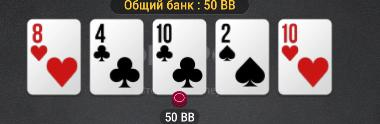10c: (154, 20, 206, 94)
10h: (279, 21, 331, 94)
2s: (217, 20, 268, 94)
4c: (91, 21, 143, 93)
8h: (28, 20, 79, 93)
